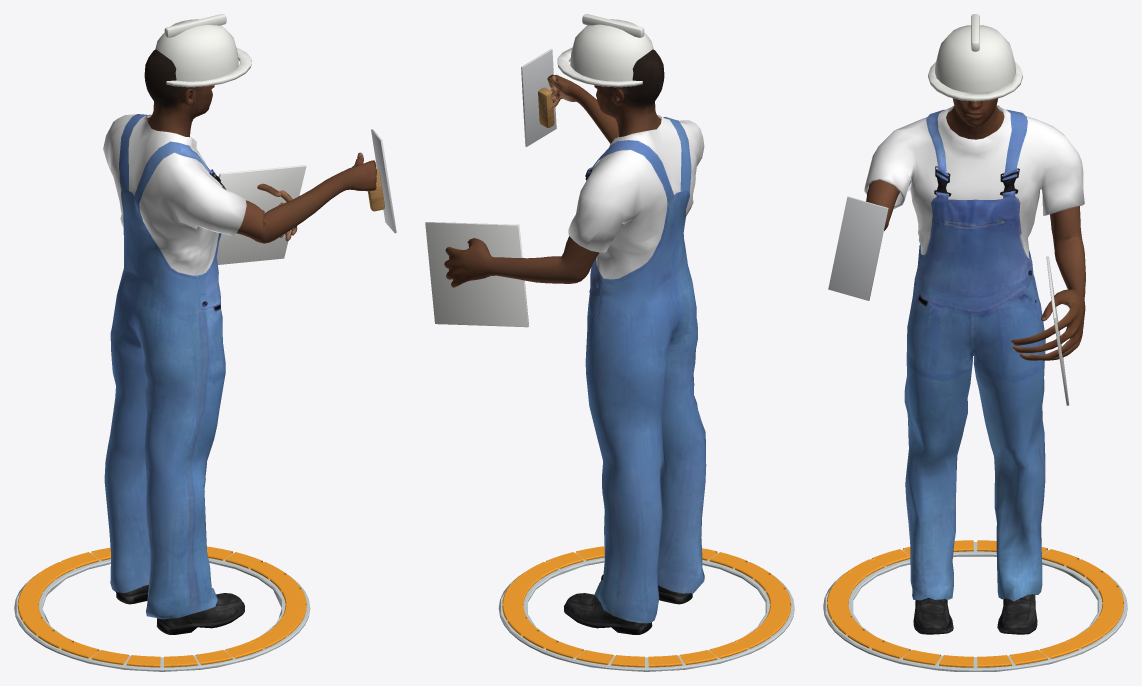
Rendered from MDO-OBR-005_lod1.glb.
The picture shows the model from 3 angles, left to right: view 1: azimuth 30°, elevation 25°; view 2: azimuth 150°, elevation 25°; view 3: azimuth 270°, elevation 25°; orthographic projection. The views are drawn at different scales.
Visible parts, largest first — view 1: MDO-OBR-005_pessoa_male_worksuit01, MDO-OBR-005_pessoa, MDO-OBR-005_ferE_azulejo, MDO-OBR-005_capacete, MDO-OBR-005_anel_fundo, MDO-OBR-005_pessoa_shoes04, MDO-OBR-005_ferD_chapa, MDO-OBR-005_capacete_aba, MDO-OBR-005_capacete_friso; view 2: MDO-OBR-005_pessoa_male_worksuit01, MDO-OBR-005_pessoa, MDO-OBR-005_ferE_azulejo, MDO-OBR-005_capacete, MDO-OBR-005_anel_fundo, MDO-OBR-005_pessoa_shoes04, MDO-OBR-005_ferD_chapa, MDO-OBR-005_capacete_aba, MDO-OBR-005_capacete_friso, MDO-OBR-005_ferD_cabo; view 3: MDO-OBR-005_pessoa_male_worksuit01, MDO-OBR-005_pessoa, MDO-OBR-005_capacete, MDO-OBR-005_ferD_chapa, MDO-OBR-005_anel_fundo, MDO-OBR-005_pessoa_shoes04, MDO-OBR-005_capacete_aba, MDO-OBR-005_ferE_azulejo.
Boxes of the visible parts, x1,y1,x2,y2 form: MDO-OBR-005_pessoa_male_worksuit01: [103, 114, 246, 619]; MDO-OBR-005_pessoa: [144, 49, 376, 243]; MDO-OBR-005_ferE_azulejo: [216, 165, 306, 264]; MDO-OBR-005_capacete: [155, 19, 238, 81]; MDO-OBR-005_anel_fundo: [14, 552, 310, 671]; MDO-OBR-005_pessoa_shoes04: [116, 585, 244, 634]; MDO-OBR-005_ferD_chapa: [371, 129, 396, 233]; MDO-OBR-005_capacete_aba: [166, 47, 251, 87]; MDO-OBR-005_capacete_friso: [164, 14, 226, 37]; MDO-OBR-005_pessoa_male_worksuit01: [568, 115, 706, 623]; MDO-OBR-005_pessoa: [444, 49, 664, 287]; MDO-OBR-005_ferE_azulejo: [425, 222, 529, 327]; MDO-OBR-005_capacete: [570, 19, 653, 81]; MDO-OBR-005_anel_fundo: [498, 552, 794, 671]; MDO-OBR-005_pessoa_shoes04: [564, 574, 692, 634]; MDO-OBR-005_ferD_chapa: [521, 49, 556, 146]; MDO-OBR-005_capacete_aba: [557, 47, 642, 87]; MDO-OBR-005_capacete_friso: [582, 14, 644, 37]; MDO-OBR-005_ferD_cabo: [538, 87, 554, 127]; MDO-OBR-005_pessoa_male_worksuit01: [864, 105, 1084, 601]; MDO-OBR-005_pessoa: [866, 98, 1085, 360]; MDO-OBR-005_capacete: [935, 25, 1015, 93]; MDO-OBR-005_ferD_chapa: [828, 196, 888, 300]; MDO-OBR-005_anel_fundo: [823, 542, 1127, 671]; MDO-OBR-005_pessoa_shoes04: [913, 594, 1037, 634]; MDO-OBR-005_capacete_aba: [928, 62, 1022, 101]; MDO-OBR-005_ferE_azulejo: [1046, 256, 1069, 405].
Size of the model in its own units: 1.02 by 1.82 by 0.84.
11 materials, 6 textured.
